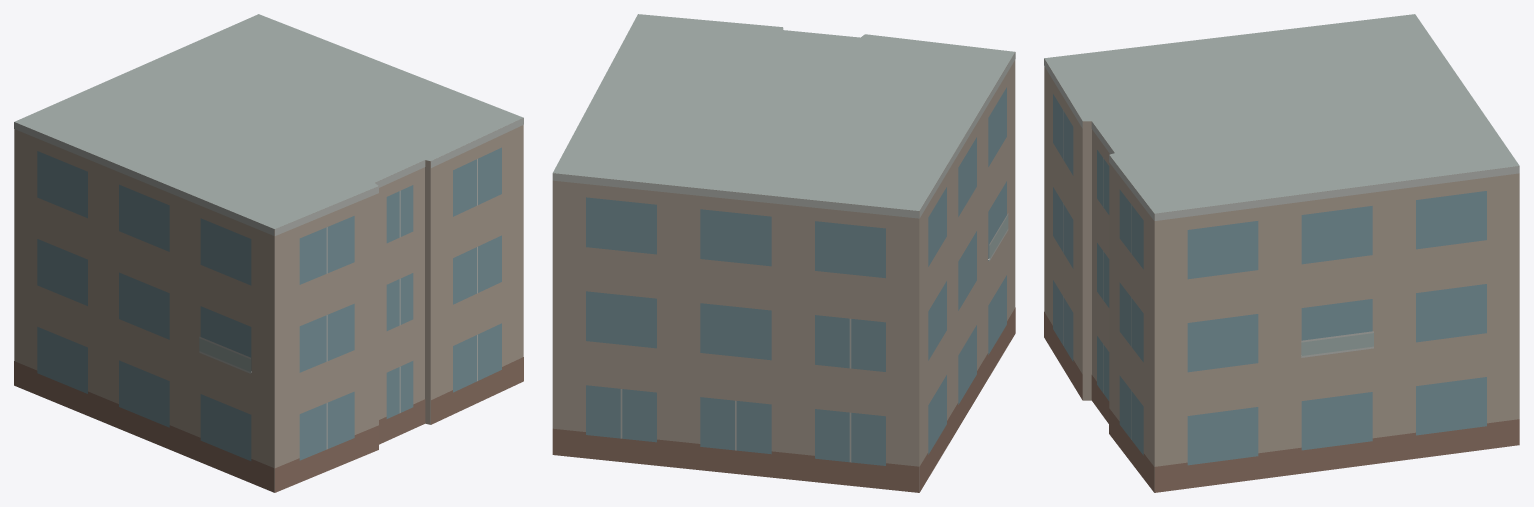
Rendered from survey-upis-32806536.glb.
3 views of the same model, side by side, from view 1: azimuth 30°, elevation 25°; view 2: azimuth 150°, elevation 25°; view 3: azimuth 270°, elevation 25° (orthographic). The views are drawn at different scales.
Visible parts, largest first — view 1: survey-upis-32806536.tmp; view 2: survey-upis-32806536.tmp; view 3: survey-upis-32806536.tmp.
Boxes of the visible parts, left/top/right/bottom form: survey-upis-32806536.tmp: left=14, top=14, right=523, bottom=492; survey-upis-32806536.tmp: left=552, top=14, right=1015, bottom=492; survey-upis-32806536.tmp: left=1044, top=14, right=1519, bottom=492.
Size of the model in its own units: 14.05 by 9.15 by 14.14.
